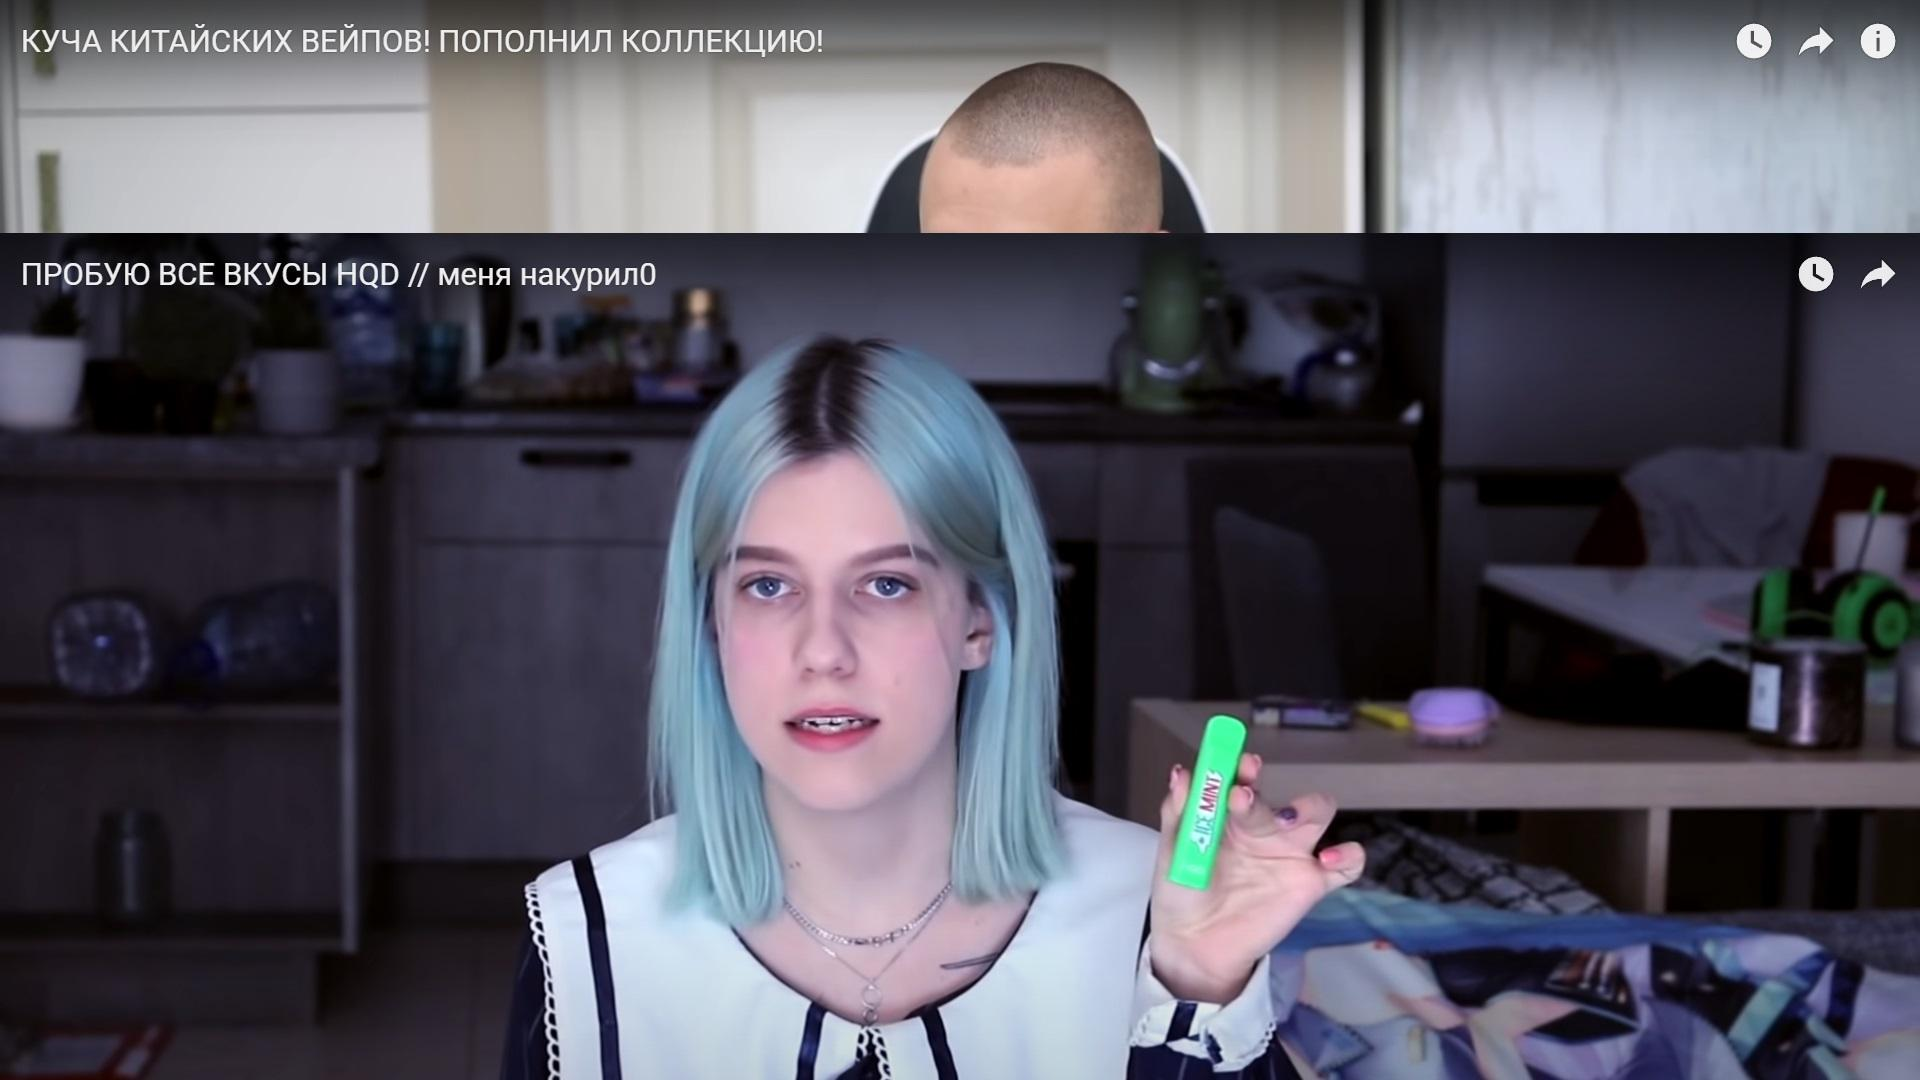Vape: (1167, 715, 1247, 890)
